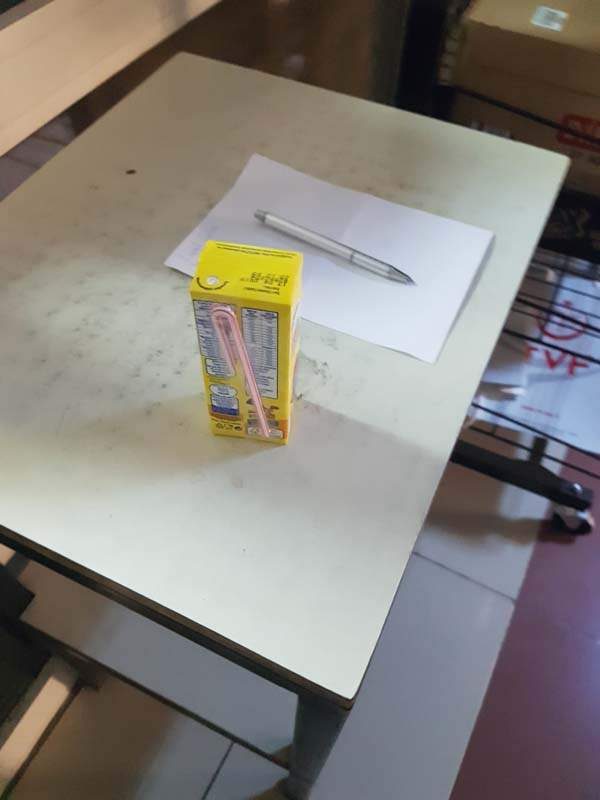nesquick200ml: (189, 242, 293, 444)
